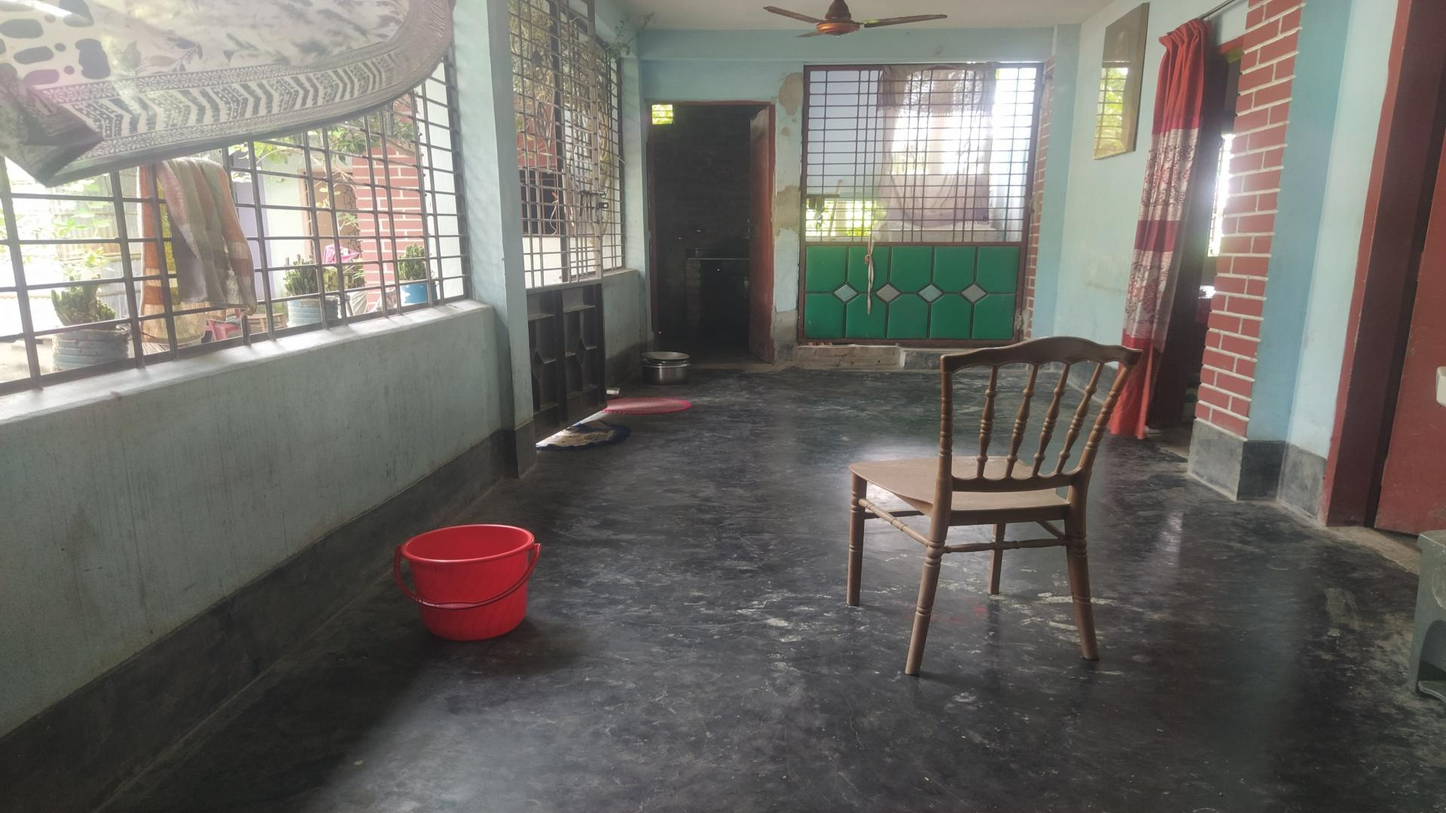Bucket: (399, 537, 542, 640)
Chair: (846, 333, 1135, 676)
Door: (801, 65, 1021, 340), (642, 98, 776, 361)
